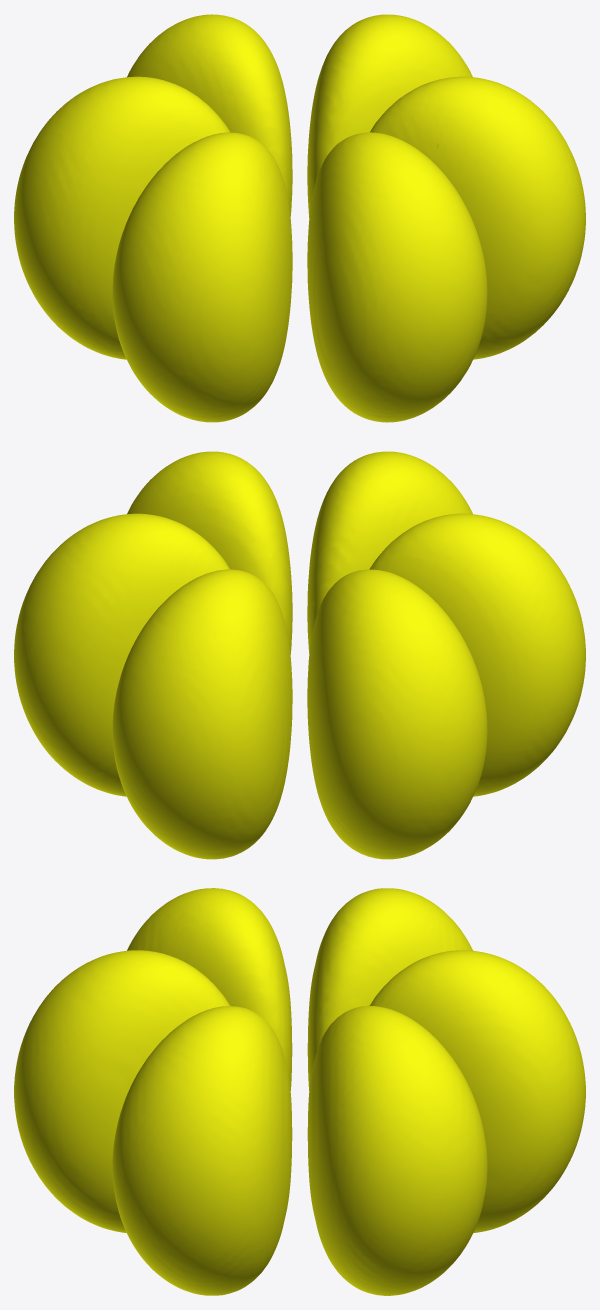
File: fx(x2-3y2) orbital.dae
The picture shows the model from 3 angles, top to bottom: view 1: azimuth 30°, elevation 25°; view 2: azimuth 150°, elevation 25°; view 3: azimuth 270°, elevation 25°; orthographic projection.
Visible parts, largest first — view 1: fx(x2−3y2) - 2, fx(x2−3y2) - 1; view 2: fx(x2−3y2) - 1, fx(x2−3y2) - 2; view 3: fx(x2−3y2) - 2, fx(x2−3y2) - 1.
Part boxes in pixels (x1,y1,x2,y2): fx(x2−3y2) - 2: (14, 14, 487, 422); fx(x2−3y2) - 1: (112, 14, 585, 422); fx(x2−3y2) - 1: (112, 451, 585, 859); fx(x2−3y2) - 2: (14, 451, 487, 859); fx(x2−3y2) - 2: (14, 888, 487, 1295); fx(x2−3y2) - 1: (112, 888, 585, 1295).
Size of the model in its own units: 63.38 by 69.66 by 36.8.
